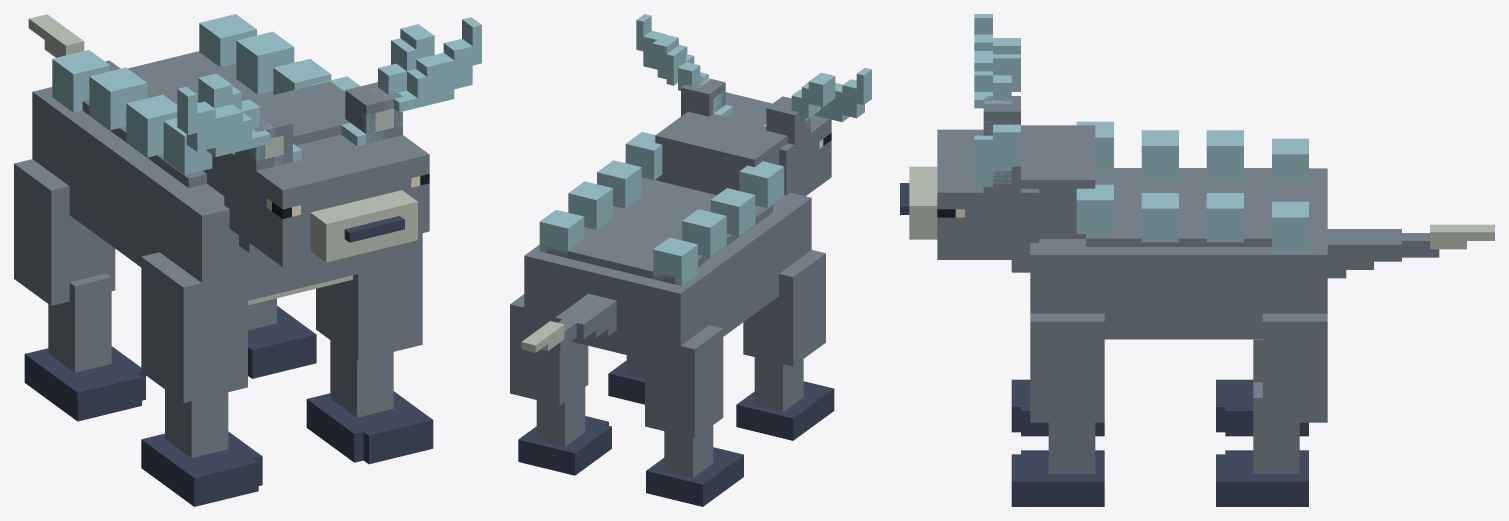
Rendered from drift_grazer.glb.
The picture shows the model from 3 angles, left to right: view 1: azimuth 30°, elevation 25°; view 2: azimuth 150°, elevation 25°; view 3: azimuth 270°, elevation 25°; orthographic projection. The views are drawn at different scales.
Visible parts, largest first — view 1: drift_grazer/thorax, drift_grazer/left_foreleg, drift_grazer/head, drift_grazer/left_hindleg, drift_grazer/right_foreleg, drift_grazer/buoyancy_ridges, drift_grazer/antler_1, drift_grazer/antler_-1, drift_grazer/neck, drift_grazer/right_hindleg, drift_grazer/head_ear_r, drift_grazer/head_ear_l (+1 smaller); view 2: drift_grazer/thorax, drift_grazer/buoyancy_ridges, drift_grazer/left_hindleg, drift_grazer/left_foreleg, drift_grazer/right_hindleg, drift_grazer/neck, drift_grazer/head, drift_grazer/antler_-1, drift_grazer/antler_1, drift_grazer/tail, drift_grazer/head_ear_l, drift_grazer/right_foreleg (+1 smaller); view 3: drift_grazer/thorax, drift_grazer/right_foreleg, drift_grazer/right_hindleg, drift_grazer/buoyancy_ridges, drift_grazer/head, drift_grazer/neck, drift_grazer/tail, drift_grazer/antler_-1, drift_grazer/left_hindleg, drift_grazer/antler_1, drift_grazer/left_foreleg, drift_grazer/head_ear_l (+1 smaller).
Boxes of the visible parts, x1,y1,x2,y2 form: drift_grazer/thorax: (32,51,404,311); drift_grazer/left_foreleg: (141,252,262,506); drift_grazer/head: (224,134,429,266); drift_grazer/left_hindleg: (14,159,145,421); drift_grazer/right_foreleg: (306,233,433,464); drift_grazer/buoyancy_ridges: (52,14,360,174); drift_grazer/antler_1: (341,17,481,146); drift_grazer/antler_-1: (177,73,301,166); drift_grazer/neck: (203,81,350,252); drift_grazer/right_hindleg: (248,298,316,378); drift_grazer/head_ear_r: (345,82,402,143); drift_grazer/head_ear_l: (235,108,292,179); drift_grazer/thorax: (524,177,811,367); drift_grazer/buoyancy_ridges: (539,132,784,285); drift_grazer/left_hindleg: (645,325,743,506); drift_grazer/left_foreleg: (736,250,834,440); drift_grazer/right_hindleg: (510,294,611,475); drift_grazer/neck: (655,111,787,194); drift_grazer/head: (725,92,831,196); drift_grazer/antler_-1: (763,68,871,127); drift_grazer/antler_1: (636,14,732,117); drift_grazer/tail: (521,293,616,352); drift_grazer/head_ear_l: (766,96,810,151); drift_grazer/right_foreleg: (608,355,644,404); drift_grazer/thorax: (1030,168,1327,339); drift_grazer/right_foreleg: (1011,313,1104,506); drift_grazer/right_hindleg: (1216,313,1327,506); drift_grazer/buoyancy_ridges: (1076,121,1308,250); drift_grazer/head: (900,129,1039,259); drift_grazer/neck: (1011,125,1095,272); drift_grazer/tail: (1327,224,1494,278); drift_grazer/antler_-1: (974,14,1020,133); drift_grazer/left_hindleg: (1216,339,1308,436); drift_grazer/antler_1: (974,124,1020,186); drift_grazer/left_foreleg: (1011,379,1104,436); drift_grazer/head_ear_l: (983,96,1020,135).
Size of the model in its own units: 1 by 1.41 by 2.
